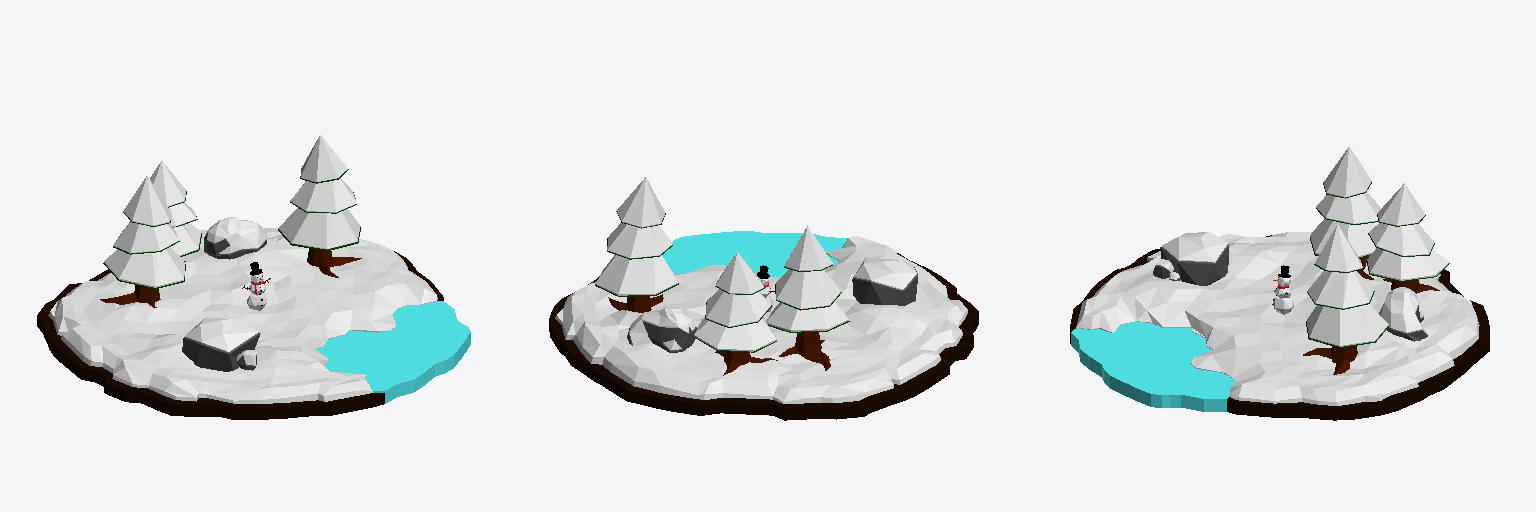
File: snow_scene.obj
3 views of the same model, side by side, from view 1: azimuth 30°, elevation 25°; view 2: azimuth 150°, elevation 25°; view 3: azimuth 270°, elevation 25° (orthographic).
Visible parts, largest first — view 1: dirt001, Cylinder003, Cylinder001, Cylinder002, GeoSphere006, GeoSphere009, GeoSphere001, snow_man, GeoSphere002; view 2: dirt001, Cylinder003, Cylinder001, Cylinder002, GeoSphere009, GeoSphere006, GeoSphere001, GeoSphere002; view 3: dirt001, Cylinder003, Cylinder002, Cylinder001, GeoSphere006, GeoSphere009, GeoSphere001, snow_man.
Part boxes in pixels (x1,y1,x2,y2): dirt001: (37, 228, 470, 419); Cylinder003: (278, 135, 361, 277); Cylinder001: (100, 176, 185, 307); Cylinder002: (150, 161, 201, 261); GeoSphere006: (185, 318, 258, 352); GeoSphere009: (205, 217, 266, 253); GeoSphere001: (182, 333, 260, 371); snow_man: (242, 262, 270, 310); GeoSphere002: (204, 233, 266, 259); dirt001: (549, 231, 978, 420); Cylinder003: (595, 177, 678, 312); Cylinder001: (766, 226, 849, 370); Cylinder002: (693, 252, 777, 375); GeoSphere009: (629, 308, 695, 350); GeoSphere006: (854, 257, 916, 289); GeoSphere001: (852, 267, 917, 305); GeoSphere002: (627, 321, 696, 352); dirt001: (1070, 232, 1489, 420); Cylinder003: (1303, 224, 1388, 374); Cylinder002: (1367, 183, 1449, 293); Cylinder001: (1310, 147, 1381, 279); GeoSphere006: (1162, 232, 1227, 262); GeoSphere009: (1379, 287, 1428, 335); GeoSphere001: (1160, 244, 1228, 285); snow_man: (1272, 265, 1293, 314).
Bounding box in the file's own units: 838 × 349 × 855.